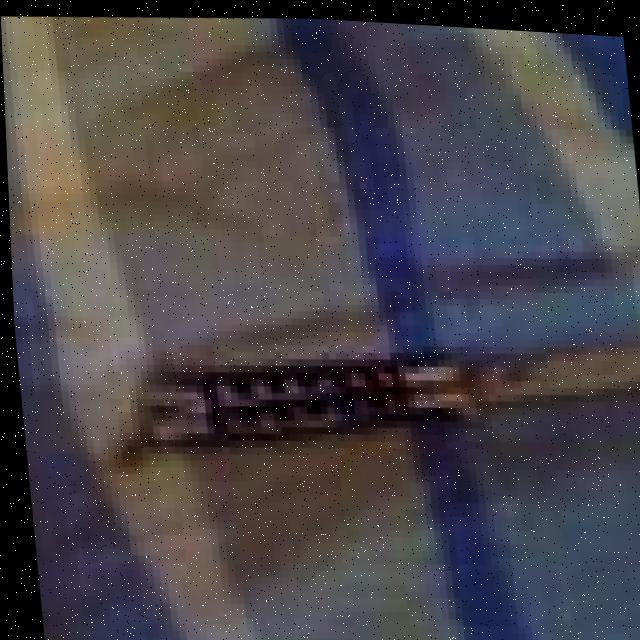knife: (134, 308, 640, 473)
